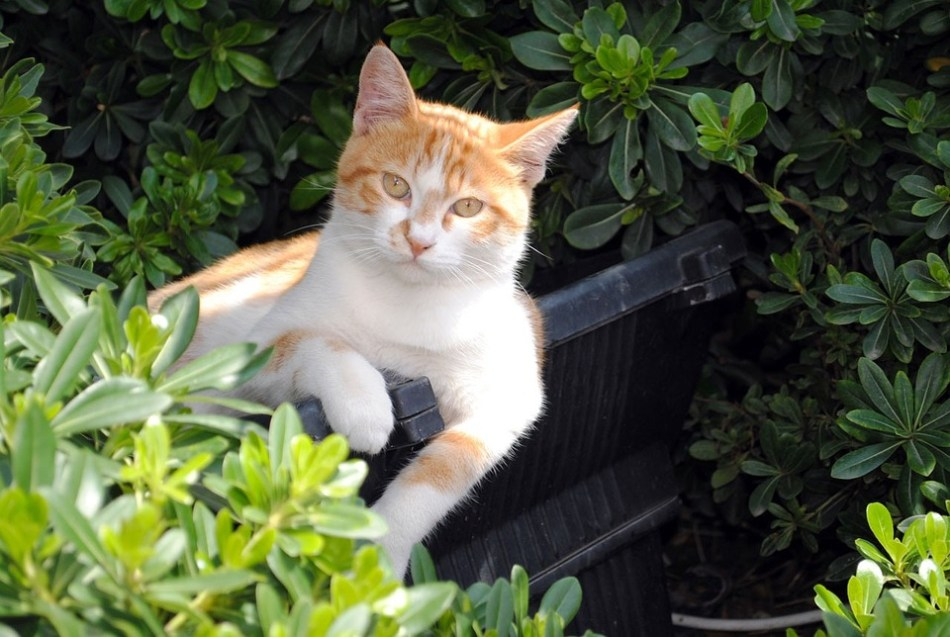cat: (139, 42, 583, 593)
